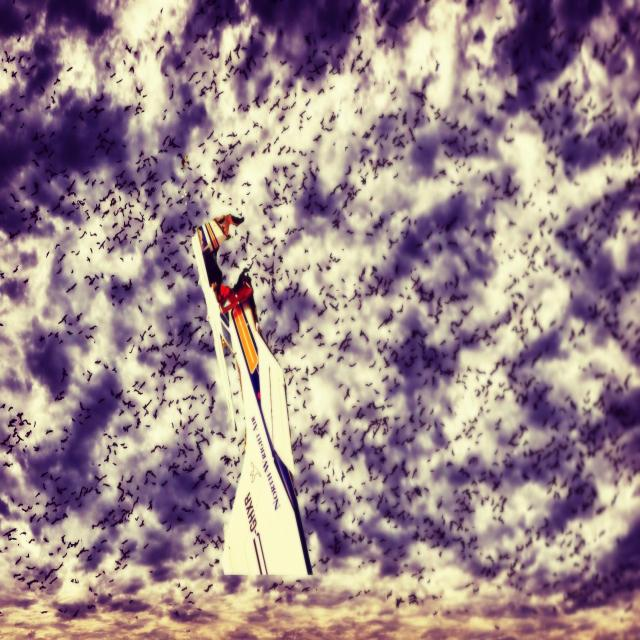airplane: (190, 212, 314, 579)
